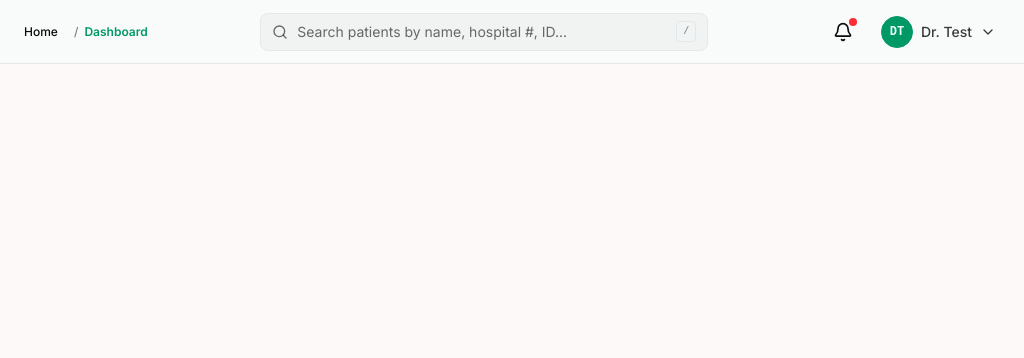
Test: Topbar notifications panel › renders notifications from the API in the dropdown
Click the button named "Notifications": (843, 32) x1=821 y1=10 x2=865 y2=54
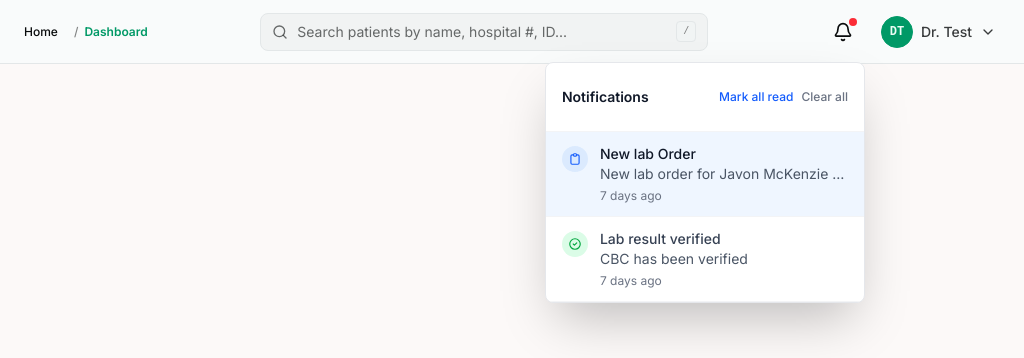
Expected: the text "New lab Order" is shown, x1=600 y1=144 x2=696 y2=162
Expected: the text "Lab result verified" is shown, x1=600 y1=230 x2=720 y2=246
